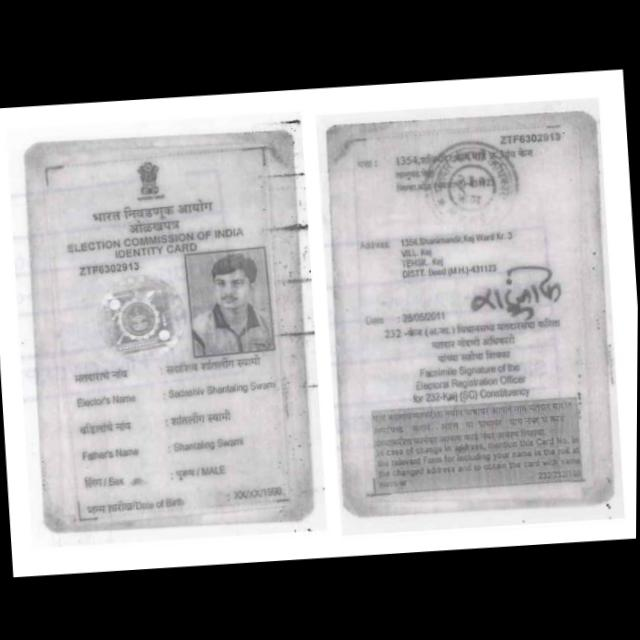voter_id: (14, 116, 324, 541)
